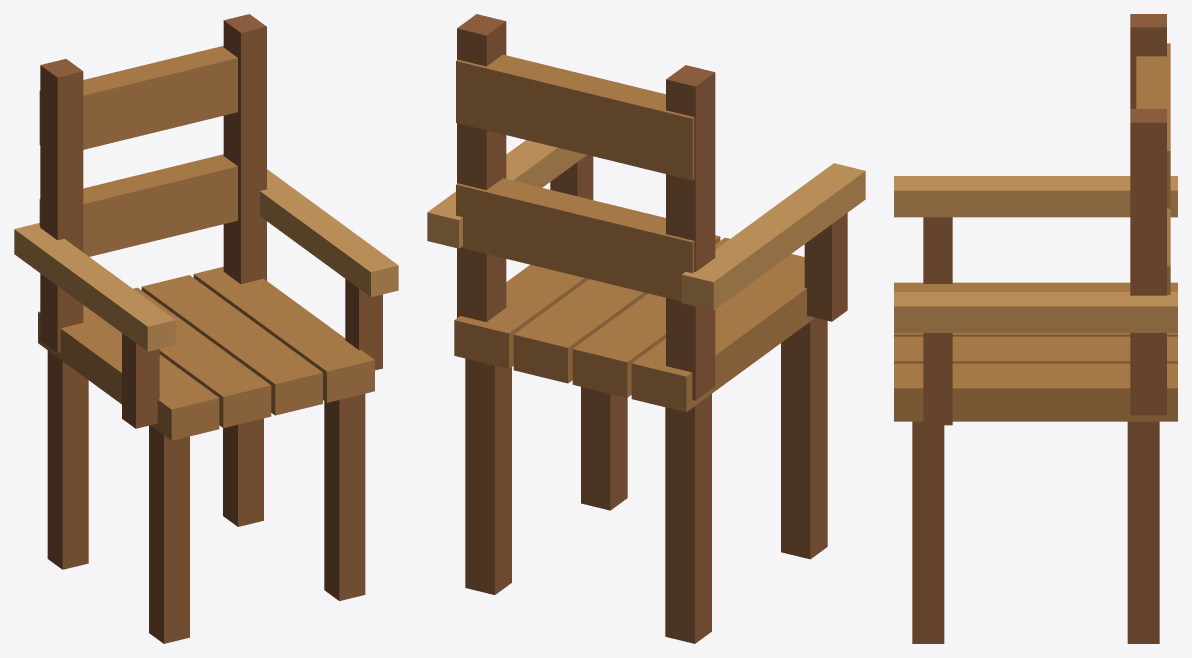
File: fishing_deck__fishing_chair.glb
3 renders of one model, left to right at view 1: azimuth 30°, elevation 25°; view 2: azimuth 150°, elevation 25°; view 3: azimuth 270°, elevation 25°, orthographic. The views are drawn at different scales.
Parts seen in each view (by area): view 1: fishing_chair__wood.001, fishing_chair__wood2.001, fishing_chair__wood3.001; view 2: fishing_chair__wood2.001, fishing_chair__wood.001, fishing_chair__wood3.001; view 3: fishing_chair__wood.001, fishing_chair__wood2.001, fishing_chair__wood3.001.
Boxes of the visible parts, x1=… form: fishing_chair__wood.001: x1=40, y1=14, x2=382, y2=643; fishing_chair__wood2.001: x1=38, y1=46, x2=374, y2=440; fishing_chair__wood3.001: x1=14, y1=169, x2=398, y2=351; fishing_chair__wood2.001: x1=454, y1=54, x2=815, y2=412; fishing_chair__wood.001: x1=457, y1=14, x2=847, y2=643; fishing_chair__wood3.001: x1=427, y1=140, x2=865, y2=310; fishing_chair__wood.001: x1=912, y1=14, x2=1166, y2=643; fishing_chair__wood2.001: x1=894, y1=43, x2=1177, y2=421; fishing_chair__wood3.001: x1=894, y1=176, x2=1177, y2=332.
Bounding box in the file's own units: 0.63 × 1.18 × 0.58.
